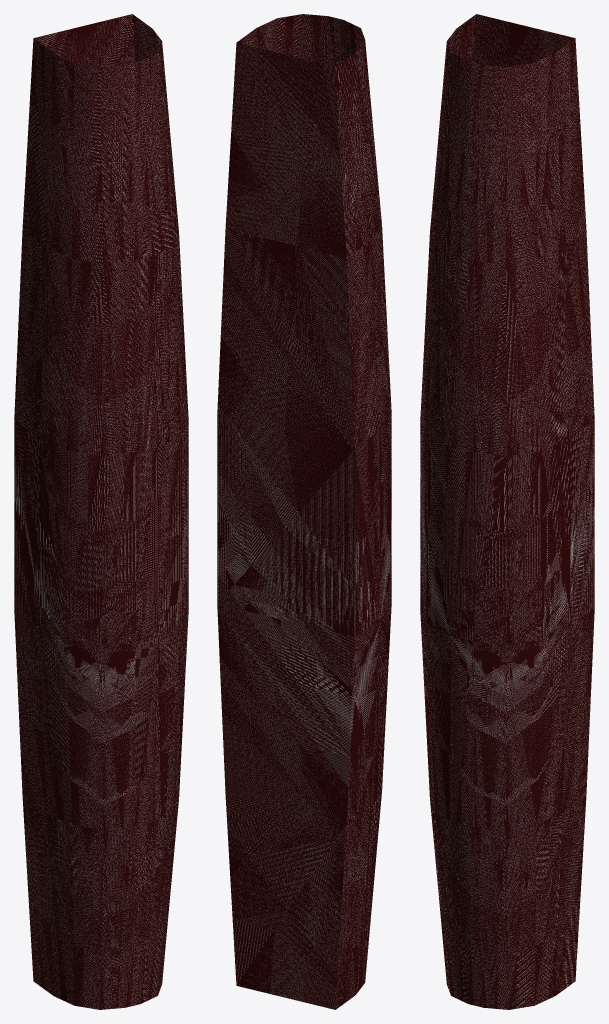
Rendered from original-42.obj.
The picture shows the model from 3 angles, left to right: view 1: azimuth 30°, elevation 25°; view 2: azimuth 150°, elevation 25°; view 3: azimuth 330°, elevation 25°; orthographic projection.
Visible parts, largest first — view 1: _7026_2_1/_7026_2/mesh26/mesh26-geometry#mesh26-geometry; view 2: _7026_2_1/_7026_2/mesh26/mesh26-geometry#mesh26-geometry; view 3: _7026_2_1/_7026_2/mesh26/mesh26-geometry#mesh26-geometry.
Boxes of the visible parts, bbox=[...] form: _7026_2_1/_7026_2/mesh26/mesh26-geometry#mesh26-geometry: bbox=[14, 14, 188, 1009]; _7026_2_1/_7026_2/mesh26/mesh26-geometry#mesh26-geometry: bbox=[217, 14, 391, 1009]; _7026_2_1/_7026_2/mesh26/mesh26-geometry#mesh26-geometry: bbox=[420, 14, 594, 1009].
Bounding box in the file's own units: 0.0226 × 0.1483 × 0.0182.
